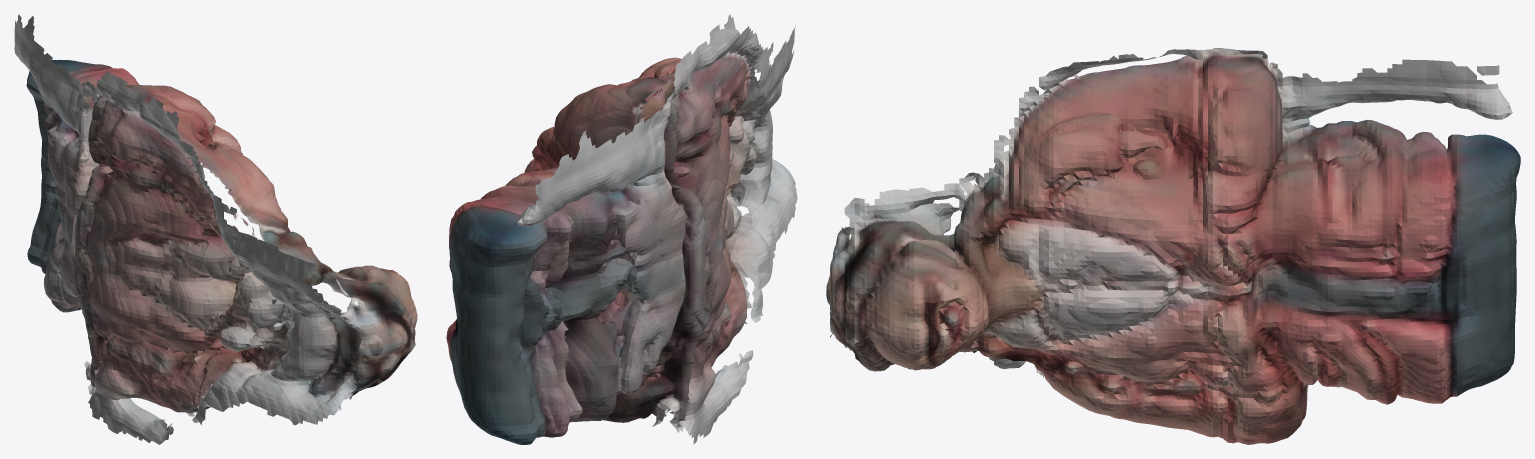
The model's file is librarian_f.glb.
3 renders of one model, left to right at view 1: azimuth 30°, elevation 25°; view 2: azimuth 150°, elevation 25°; view 3: azimuth 270°, elevation 25°, orthographic. The views are drawn at different scales.
Parts seen in each view (by area): view 1: world; view 2: world; view 3: world.
Part boxes in pixels (x1=…): world: x1=14, y1=14, x2=417, y2=444; world: x1=446, y1=14, x2=797, y2=444; world: x1=826, y1=48, x2=1520, y2=444.
Bounding box in the file's own units: 0.3963 × 0.6346 × 0.9518.
